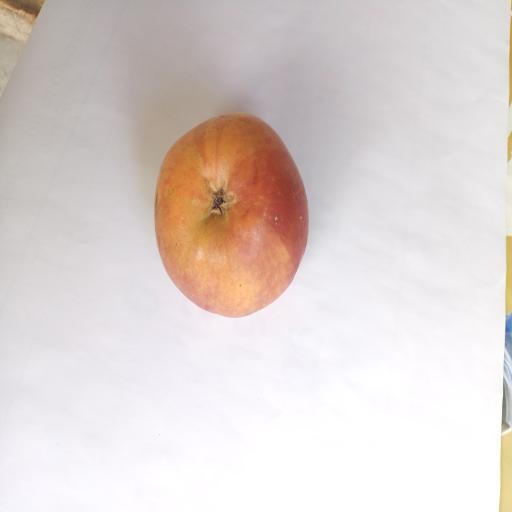apple-ripe: (147, 98, 319, 332)
